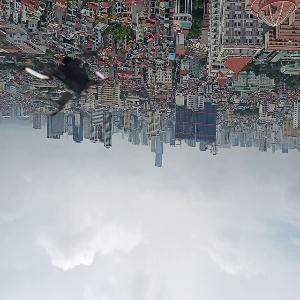drone: (12, 19, 115, 122)
